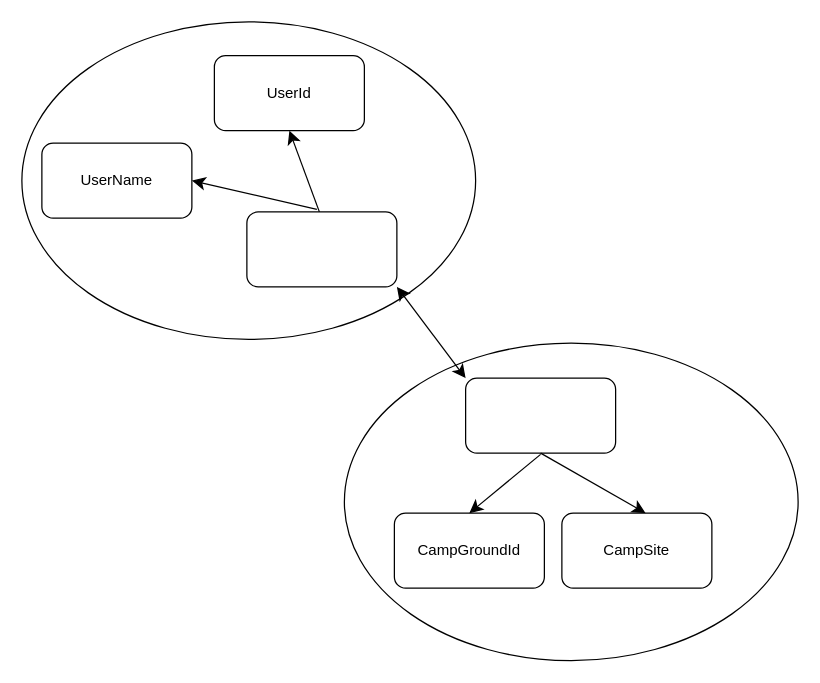
This 820x683 diagram has some shape labels left out. Here are the shapes that lost their labels. From the top down, the centre of each, then its label:
(321,249): 集約ルート User
(540,415): 集約ルート CampGround
